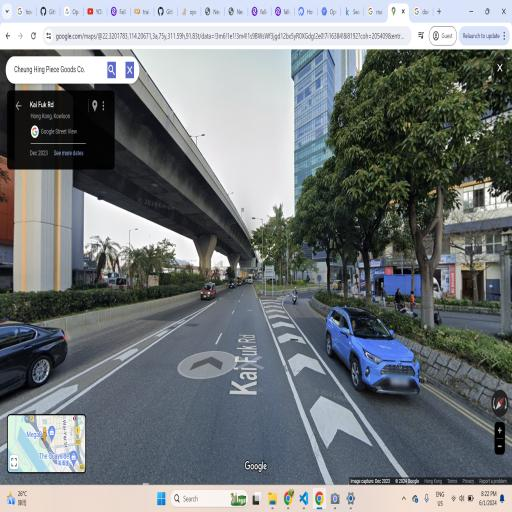Roads: (29, 309, 216, 470), (190, 264, 314, 488), (306, 373, 464, 476), (267, 295, 353, 473)
Trees: (361, 42, 502, 346), (328, 76, 405, 318), (320, 142, 372, 309), (293, 161, 348, 311)
